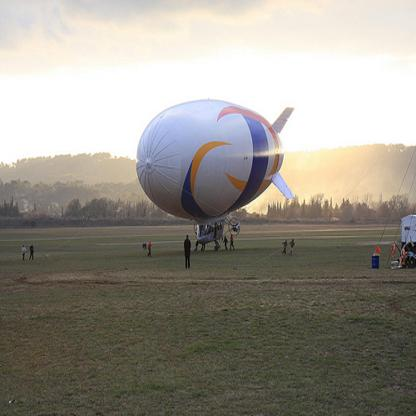Airship: (134, 94, 302, 219)
